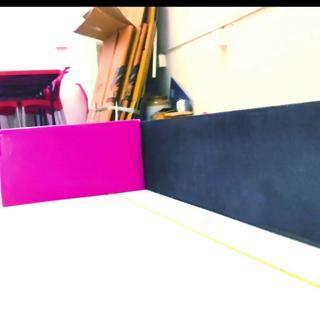xparking: (1, 118, 144, 206)
